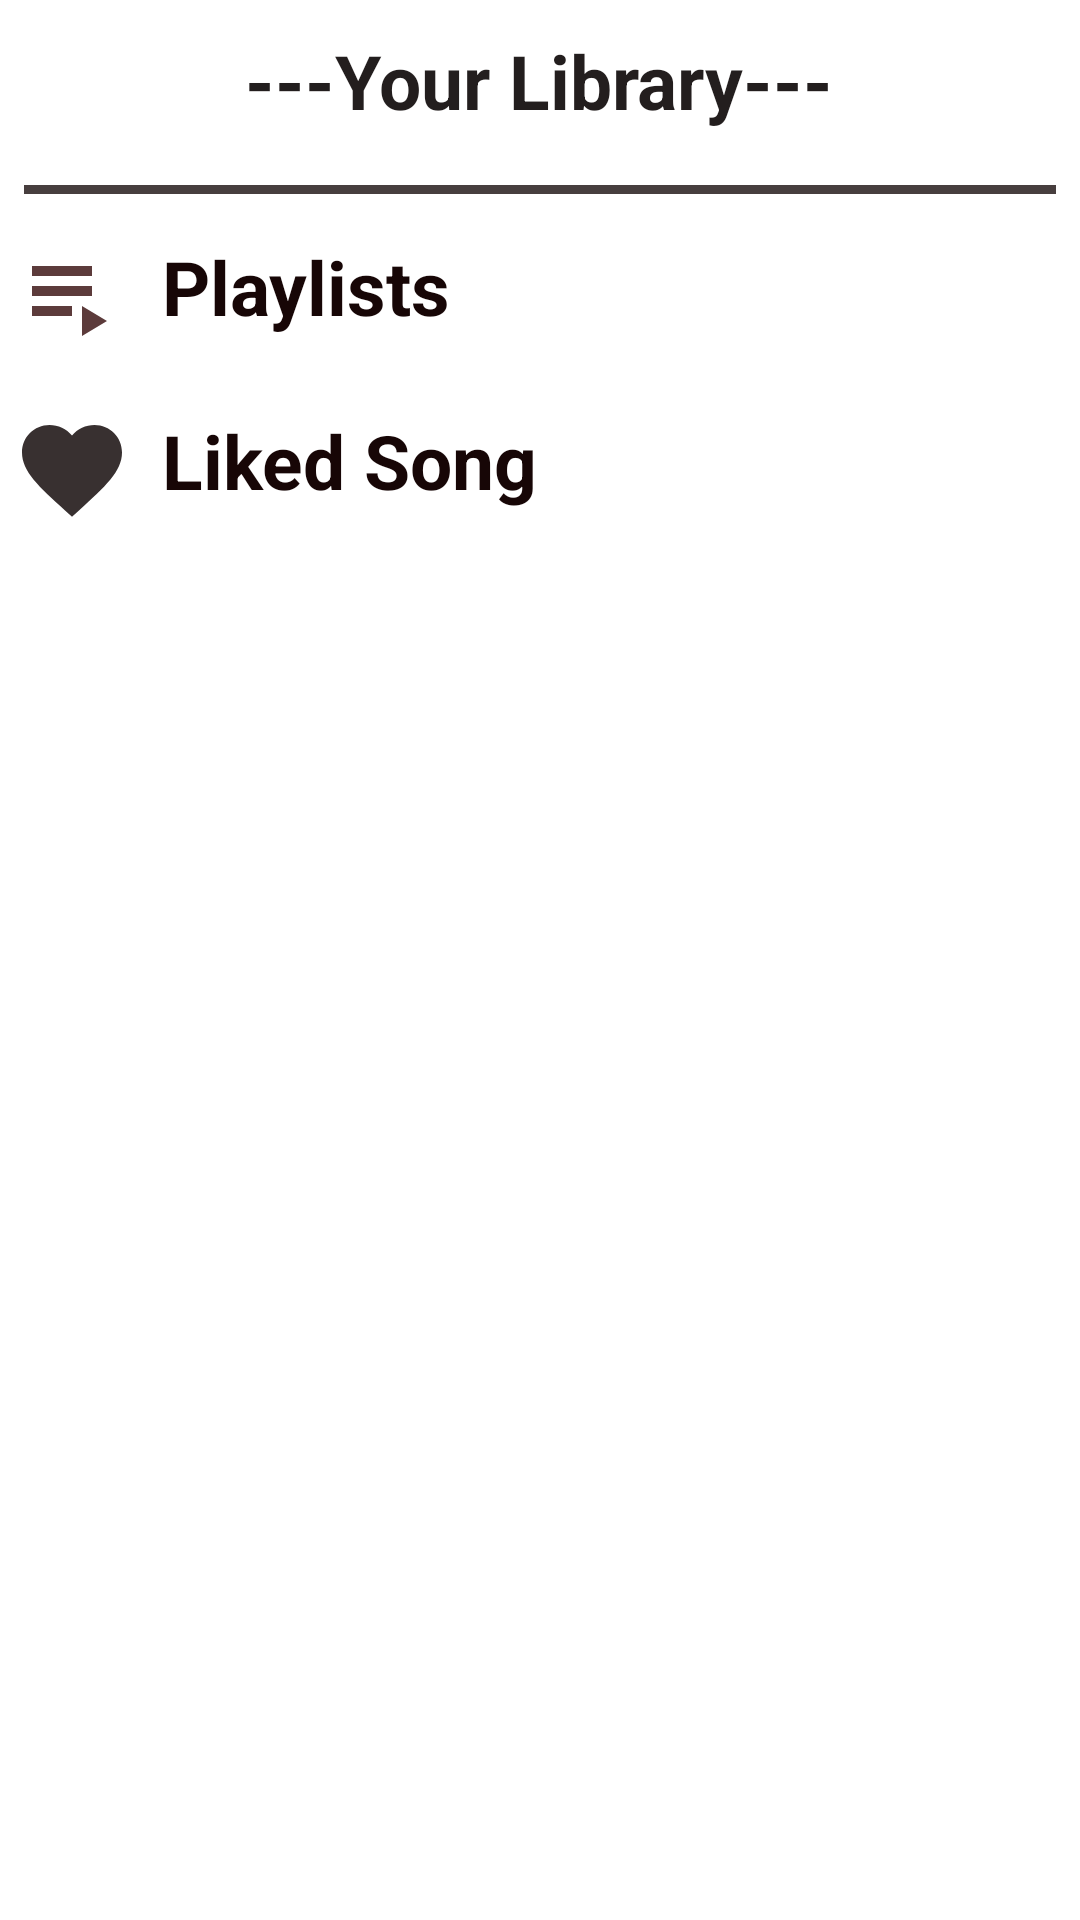

Screen size 1080 x 1920. Icon name, then its box in pixels as (x1, y1, x2, y2):
favorite: (22, 425, 122, 517)
playlist play: (32, 266, 107, 336)
